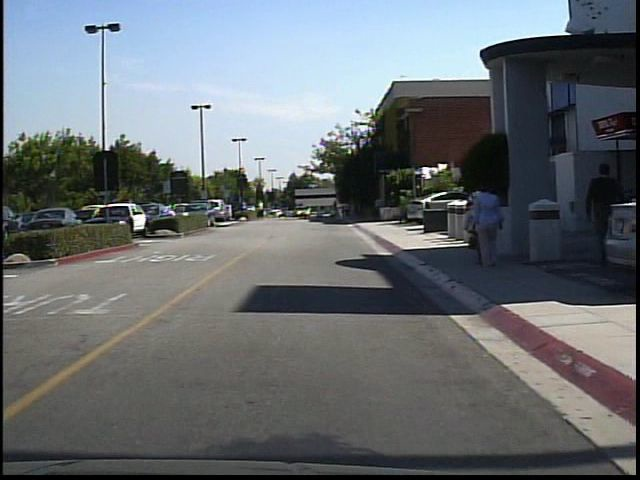person: (581, 155, 624, 266), (471, 180, 504, 268), (465, 180, 486, 268), (334, 199, 347, 223), (258, 197, 269, 221)
